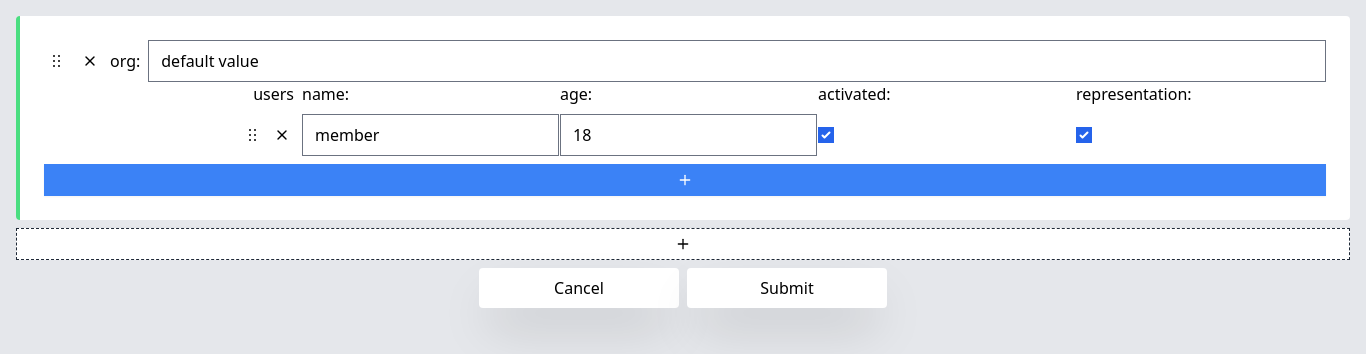
test uncheck activated make representation disabled & unchecked
Check: the 2nd checkbox is checked, box [1076,127,1092,143]
Check: the 2nd checkbox is enabled, box [1076,127,1092,143]
Click the 1st checkbox at point(826, 135), box [818,127,834,143]
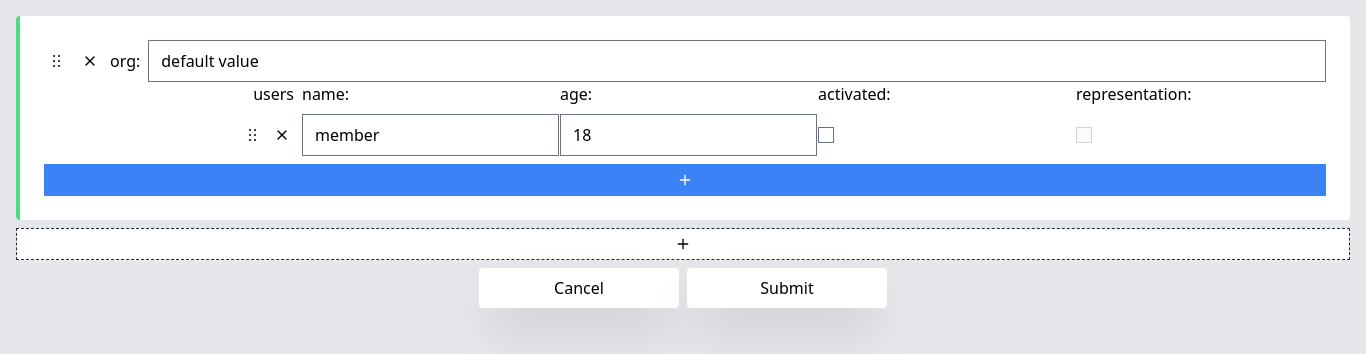
Check: the 1st checkbox is not checked, box [818,127,834,143]
Check: the 2nd checkbox is disabled, box [1076,127,1092,143]
Check: the 2nd checkbox is not checked, box [1076,127,1092,143]
